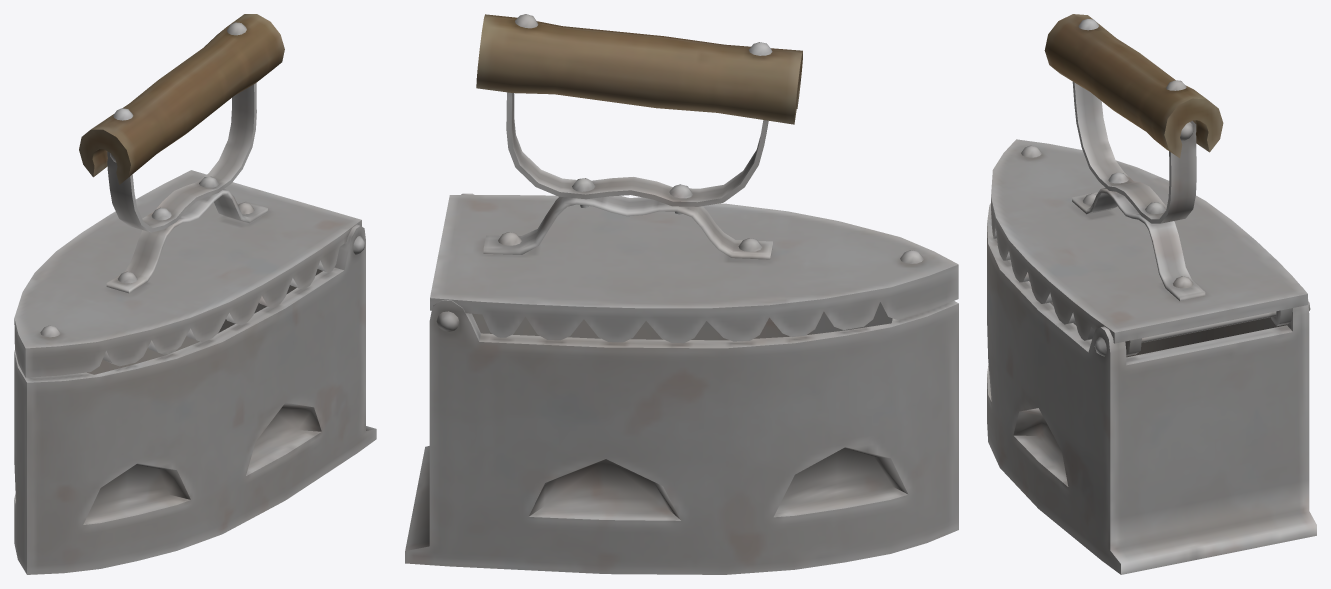
File: SM_Farm_Iron_01.fbx
3 views of the same model, side by side, from view 1: azimuth 30°, elevation 25°; view 2: azimuth 150°, elevation 25°; view 3: azimuth 270°, elevation 25° (orthographic). The views are drawn at different scales.
Parts seen in each view (by area): view 1: SM_Farm_Iron_01_LOD0; view 2: SM_Farm_Iron_01_LOD0; view 3: SM_Farm_Iron_01_LOD0.
Boxes of the visible parts, x1,y1,x2,y2 form: SM_Farm_Iron_01_LOD0: (14,14,376,574); SM_Farm_Iron_01_LOD0: (405,14,958,574); SM_Farm_Iron_01_LOD0: (987,14,1316,574).
Size of the model in its own units: 27.42 by 27.65 by 18.89.
